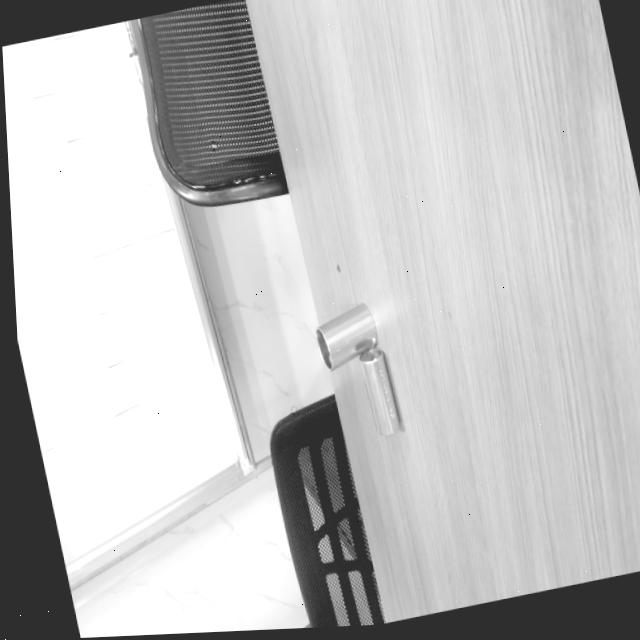Co_Lon: (307, 301, 385, 372)
Co_Nho: (357, 346, 402, 437)
